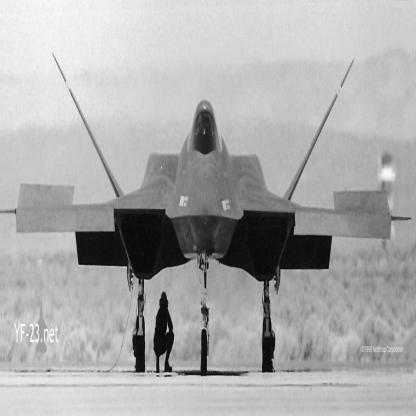YF23: (1, 52, 412, 373)
